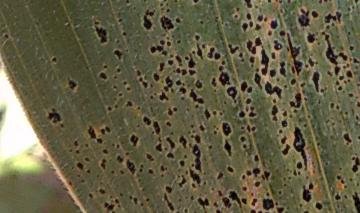tarspot: (322, 31, 341, 76), (287, 31, 303, 76), (294, 127, 309, 170), (264, 80, 283, 99), (47, 108, 63, 127), (158, 15, 176, 31), (229, 189, 242, 211), (289, 91, 305, 108), (94, 25, 108, 43), (325, 10, 344, 23), (260, 48, 269, 75), (189, 88, 204, 104), (297, 9, 311, 26), (194, 143, 202, 172), (197, 197, 211, 213), (163, 195, 176, 212), (223, 138, 234, 157), (300, 186, 313, 202), (219, 70, 231, 87), (227, 85, 238, 103), (190, 168, 201, 186), (312, 71, 321, 93), (141, 15, 153, 31), (253, 73, 263, 91), (306, 31, 318, 45), (128, 133, 139, 148), (164, 74, 173, 92), (279, 60, 288, 78), (127, 159, 137, 175), (221, 122, 233, 135), (221, 196, 233, 209), (68, 78, 79, 92), (353, 191, 360, 213), (271, 103, 279, 121), (87, 125, 97, 139), (353, 154, 360, 174), (262, 198, 274, 209), (166, 136, 175, 150), (114, 49, 124, 61), (343, 131, 353, 143), (207, 46, 216, 59), (179, 136, 188, 149), (229, 44, 239, 55), (153, 120, 160, 135), (197, 44, 204, 59), (145, 152, 155, 162), (159, 92, 169, 102), (248, 106, 257, 117), (273, 40, 282, 51), (309, 56, 318, 67), (282, 144, 291, 155), (178, 176, 187, 187), (143, 114, 151, 126), (188, 55, 196, 67), (100, 158, 107, 171), (115, 154, 124, 164), (174, 55, 183, 65), (195, 79, 204, 89), (339, 51, 349, 60), (270, 18, 278, 29), (145, 9, 157, 16), (98, 71, 107, 80), (178, 85, 187, 94), (165, 185, 174, 194), (315, 201, 324, 210), (152, 72, 160, 82), (263, 169, 273, 177), (244, 1, 254, 9), (159, 60, 165, 73), (204, 108, 211, 119), (241, 21, 248, 32), (250, 45, 257, 56), (76, 162, 84, 171), (188, 68, 197, 76), (211, 76, 217, 88), (238, 110, 246, 119), (253, 167, 261, 176), (307, 181, 315, 190), (166, 152, 176, 159), (246, 39, 253, 49), (50, 56, 58, 64), (161, 49, 169, 57), (180, 68, 188, 76), (213, 52, 221, 60), (217, 64, 225, 72), (198, 124, 206, 132), (289, 78, 297, 86), (281, 109, 289, 117), (326, 70, 334, 78), (142, 80, 149, 89), (150, 45, 157, 54), (174, 78, 183, 85), (238, 135, 247, 142), (334, 192, 341, 201), (241, 82, 247, 92), (126, 100, 134, 107), (118, 169, 126, 176), (147, 168, 155, 175), (175, 16, 183, 23), (167, 59, 174, 67), (194, 33, 201, 41), (247, 85, 254, 93), (257, 14, 264, 22), (255, 37, 262, 45), (270, 69, 277, 77), (312, 11, 320, 18), (353, 57, 360, 65), (281, 120, 289, 127), (280, 136, 287, 144), (251, 198, 258, 206), (66, 179, 74, 186), (156, 143, 162, 152), (167, 107, 173, 116), (246, 12, 252, 21), (271, 51, 277, 60), (276, 207, 285, 213), (246, 124, 251, 134), (319, 87, 329, 92), (96, 137, 103, 144), (165, 120, 172, 127), (159, 38, 166, 45), (173, 67, 180, 74), (227, 165, 234, 172), (279, 30, 286, 37), (277, 128, 284, 135), (212, 201, 219, 208), (80, 177, 87, 184), (343, 110, 350, 117), (105, 125, 111, 133), (157, 44, 163, 52), (195, 135, 201, 143), (217, 170, 225, 176), (347, 70, 353, 78), (183, 207, 191, 213), (217, 190, 223, 198), (254, 180, 260, 188), (192, 1, 201, 6), (133, 196, 138, 205), (100, 128, 106, 135), (160, 165, 166, 172), (183, 55, 189, 62), (241, 143, 248, 149), (245, 98, 252, 104), (337, 74, 344, 80), (334, 79, 341, 85), (347, 92, 354, 98), (277, 189, 283, 196), (296, 162, 303, 168), (108, 204, 115, 210), (99, 188, 106, 194), (83, 157, 91, 162), (84, 168, 92, 173), (215, 208, 223, 213), (242, 196, 247, 204), (73, 141, 79, 147), (102, 148, 108, 154), (125, 151, 131, 157), (166, 41, 172, 47), (200, 43, 206, 49), (218, 110, 224, 116), (240, 125, 246, 131), (255, 24, 261, 30), (249, 56, 255, 62), (279, 8, 285, 14), (325, 24, 331, 30), (349, 45, 355, 51), (343, 63, 349, 69), (330, 103, 336, 109), (145, 196, 151, 202), (242, 186, 248, 192), (94, 20, 101, 25), (107, 105, 112, 112), (115, 142, 120, 149), (254, 154, 259, 161), (246, 170, 251, 177), (249, 21, 254, 28), (249, 63, 256, 68), (305, 62, 310, 69), (335, 103, 340, 110), (355, 101, 360, 108), (241, 173, 246, 180), (347, 5, 352, 12), (318, 1, 329, 4), (299, 82, 307, 86), (249, 209, 257, 213), (4, 33, 9, 39), (115, 38, 121, 43), (122, 30, 127, 36), (117, 18, 123, 23), (126, 86, 131, 92), (114, 103, 119, 109), (136, 71, 142, 76), (138, 76, 143, 82), (157, 136, 162, 142), (173, 106, 178, 112), (199, 19, 204, 25), (180, 96, 186, 101), (194, 103, 200, 108), (191, 49, 196, 55), (221, 59, 226, 65), (212, 109, 217, 115), (189, 123, 194, 129), (190, 130, 196, 135), (190, 163, 196, 168), (255, 68, 261, 73), (283, 83, 288, 89), (272, 98, 278, 103), (337, 86, 342, 92), (140, 201, 145, 207), (190, 196, 196, 201), (336, 174, 342, 179), (343, 183, 348, 189), (118, 191, 124, 196), (103, 202, 109, 207), (140, 187, 145, 193), (282, 176, 288, 181), (180, 159, 184, 166), (215, 16, 219, 23), (355, 114, 359, 121), (88, 194, 95, 198), (137, 176, 141, 183), (346, 31, 353, 35), (275, 1, 284, 4), (103, 64, 108, 69), (116, 68, 121, 73), (118, 92, 123, 97), (150, 95, 155, 100), (75, 149, 80, 154), (111, 170, 116, 175), (138, 167, 143, 172), (160, 2, 165, 7), (166, 8, 171, 13), (176, 39, 181, 44), (169, 53, 174, 58), (208, 144, 213, 149), (234, 14, 239, 19), (236, 7, 241, 12), (347, 78, 352, 83), (192, 183, 197, 188), (250, 191, 255, 196), (293, 170, 298, 175), (160, 173, 165, 178), (299, 203, 304, 208), (125, 1, 131, 5), (85, 142, 89, 148), (186, 168, 189, 176), (252, 126, 256, 132), (239, 52, 243, 58), (264, 16, 268, 22), (274, 202, 280, 206), (344, 194, 348, 200), (297, 169, 301, 175), (223, 22, 229, 26), (285, 1, 292, 4), (113, 75, 117, 80), (113, 85, 117, 90), (140, 163, 144, 168), (160, 8, 165, 12), (191, 134, 195, 139), (213, 130, 218, 134), (268, 31, 273, 35), (330, 23, 334, 28), (343, 79, 347, 84), (355, 82, 360, 86), (266, 192, 271, 196), (341, 179, 345, 184), (349, 177, 354, 181), (325, 162, 330, 166), (338, 167, 342, 172), (177, 197, 182, 201), (129, 195, 133, 200), (115, 199, 120, 203), (287, 176, 292, 180), (357, 135, 360, 141), (303, 210, 309, 213), (123, 81, 127, 85), (137, 106, 141, 110), (69, 149, 73, 153), (111, 143, 115, 147), (150, 84, 154, 88), (172, 1, 180, 3), (170, 131, 174, 135), (184, 155, 188, 159), (241, 58, 245, 62), (203, 181, 207, 185), (283, 183, 287, 187), (211, 187, 214, 192), (258, 210, 263, 213), (116, 204, 121, 207), (136, 125, 141, 128), (186, 107, 189, 112), (266, 1, 273, 3), (352, 1, 359, 3), (141, 1, 147, 3), (317, 142, 320, 146), (305, 97, 308, 101), (163, 1, 168, 3), (167, 145, 168, 151)
